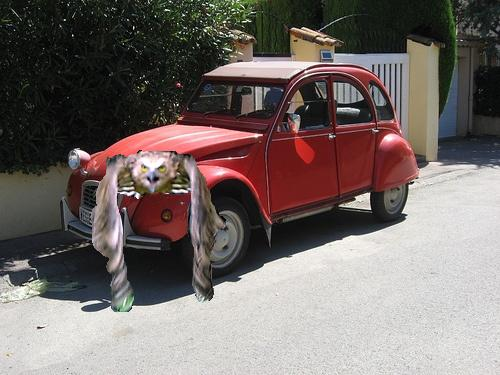tampered: (92, 151, 226, 312)
